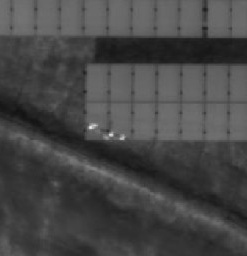solar: (82, 60, 112, 102), (106, 60, 136, 102), (129, 60, 159, 102), (154, 60, 184, 102), (177, 60, 207, 102), (202, 60, 232, 102), (202, 99, 232, 141), (177, 99, 207, 141), (153, 99, 183, 141), (129, 99, 159, 141), (105, 99, 135, 141), (81, 99, 111, 141)
